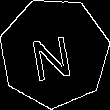N_N: (30, 24, 78, 81)
